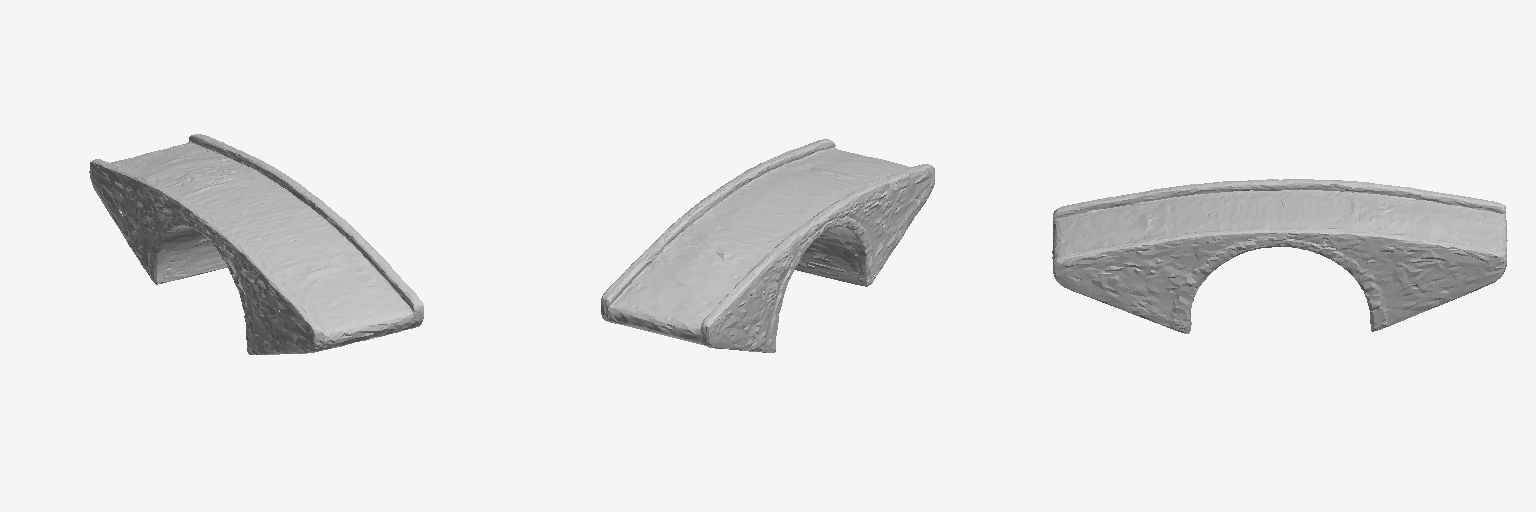
Rendered from OldBridge.obj.
The picture shows the model from 3 angles: view 1: azimuth 30°, elevation 25°; view 2: azimuth 150°, elevation 25°; view 3: azimuth 270°, elevation 25°; orthographic projection.
Visible parts, largest first — view 1: OldBridge; view 2: OldBridge; view 3: OldBridge.
Part boxes in pixels (left/top/right/bottom): OldBridge: left=89, top=134, right=423, bottom=354; OldBridge: left=601, top=139, right=934, bottom=352; OldBridge: left=1052, top=179, right=1507, bottom=333.
Size of the model in its own units: 4.02 by 3.46 by 13.79.